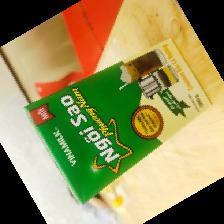NSPN_Hop: (23, 38, 214, 207)
